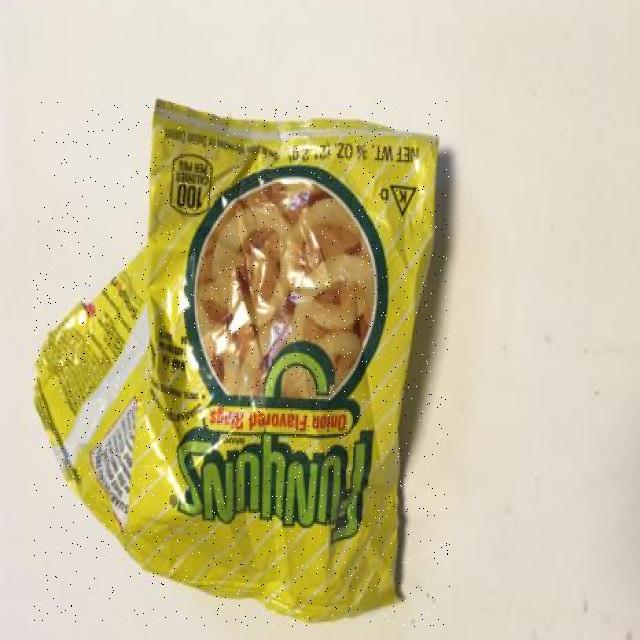wrapper: (33, 101, 450, 627)
